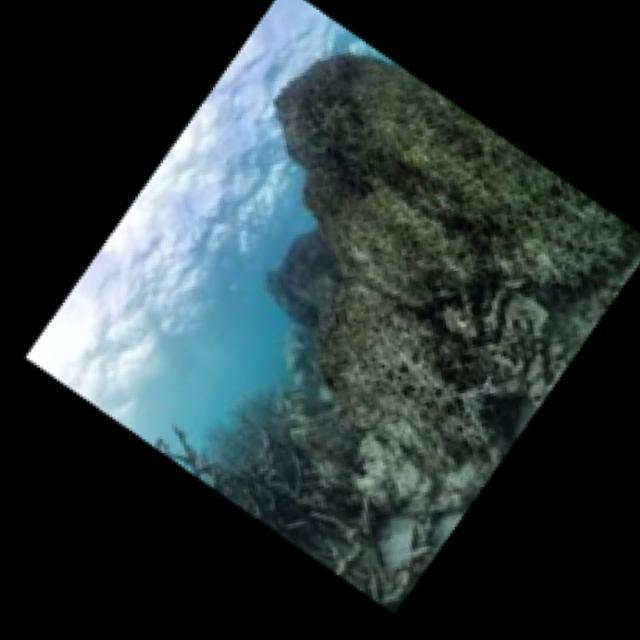Dead Coral: (156, 340, 405, 598)
